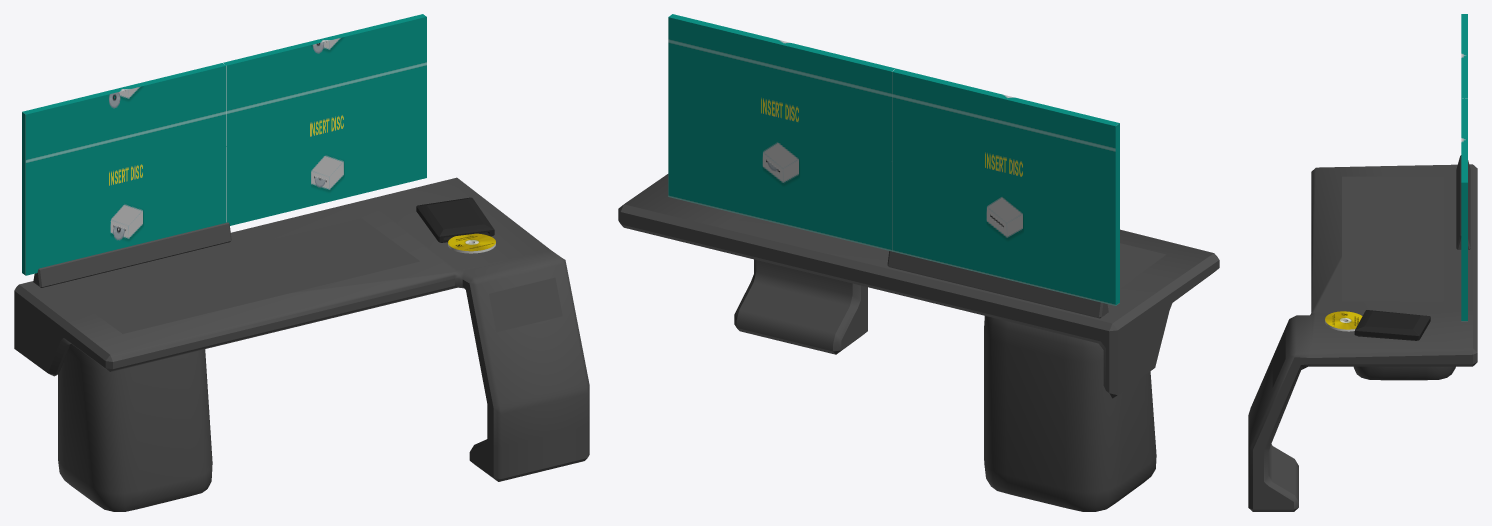
File: PCController_01.fbx
The picture shows the model from 3 angles, left to right: view 1: azimuth 30°, elevation 25°; view 2: azimuth 150°, elevation 25°; view 3: azimuth 270°, elevation 25°; orthographic projection. The views are drawn at different scales.
Visible parts, largest first — view 1: Screen, PCTable, Base, Keyboard, Stand, Deco, CDReader001, CD001; view 2: Screen, PCTable, Base, Stand, Keyboard; view 3: PCTable, Keyboard, Screen, CDReader001, Base, Stand, CD001, Deco.
Part boxes in pixels (x1,y1,x2,y2): Screen: [22, 14, 426, 275]; PCTable: [14, 177, 589, 481]; Base: [58, 344, 212, 511]; Keyboard: [64, 218, 419, 333]; Stand: [33, 222, 231, 287]; Deco: [489, 277, 562, 332]; CDReader001: [416, 197, 494, 242]; CD001: [448, 233, 495, 253]; Screen: [668, 14, 1119, 305]; PCTable: [618, 174, 1219, 398]; Base: [984, 316, 1156, 511]; Stand: [887, 251, 1108, 318]; Keyboard: [769, 221, 1166, 288]; PCTable: [1248, 164, 1477, 511]; Keyboard: [1342, 176, 1443, 301]; Screen: [1461, 14, 1467, 321]; CDReader001: [1354, 310, 1430, 340]; Base: [1353, 366, 1455, 380]; Stand: [1456, 155, 1470, 249]; CD001: [1325, 311, 1362, 331]; Deco: [1272, 331, 1285, 387].
Size of the model in its own units: 93.4 by 48.18 by 72.7.
